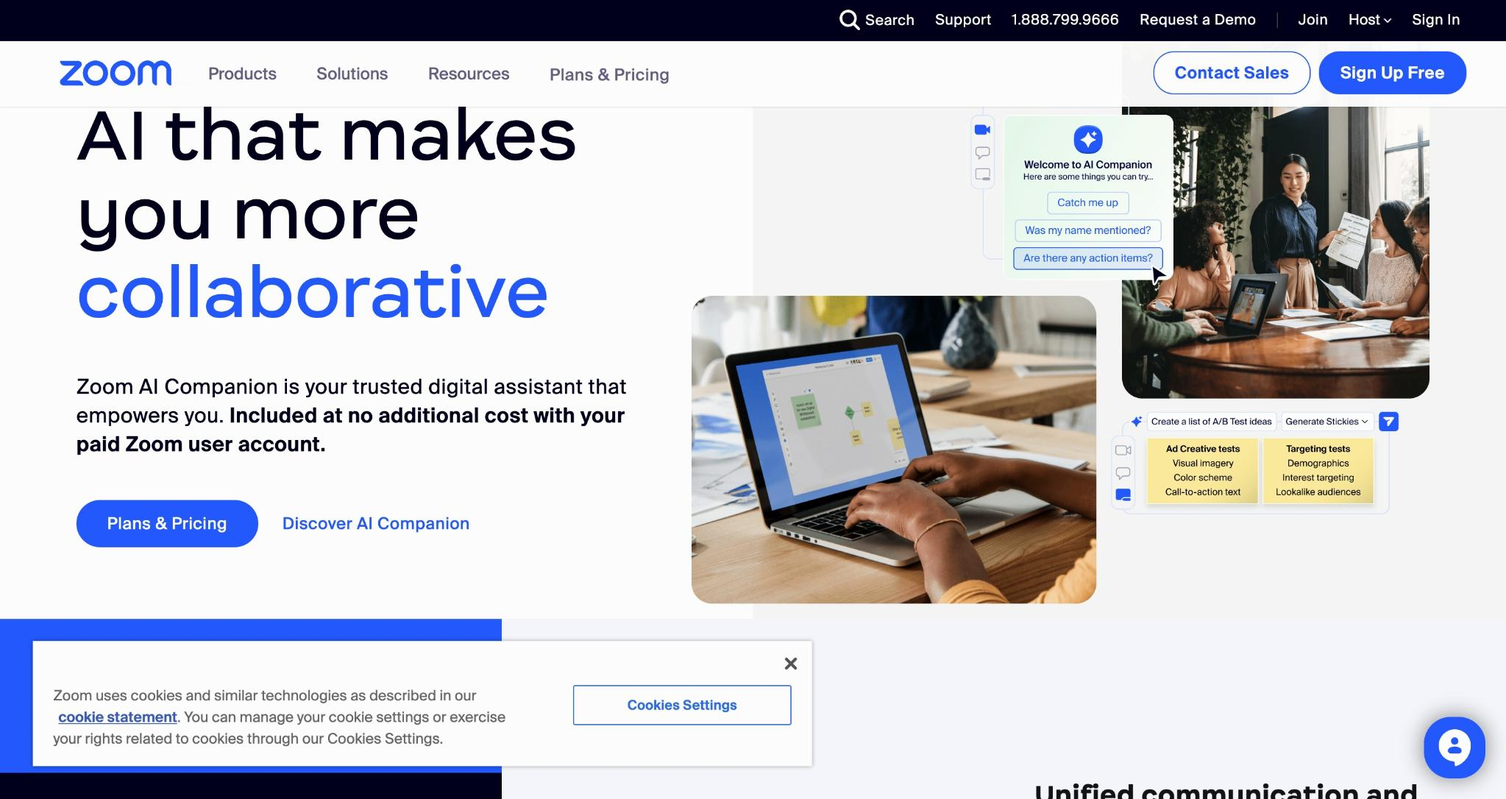webelement: (502, 618, 1505, 799), (77, 95, 650, 330), (32, 640, 811, 765), (35, 40, 1470, 107), (692, 133, 1096, 285), (0, 0, 1505, 40), (77, 371, 650, 457), (192, 40, 684, 107), (52, 685, 526, 749), (1111, 412, 1399, 514), (76, 246, 401, 335), (1111, 514, 1385, 616), (1149, 40, 1470, 97), (153, 668, 440, 721), (283, 499, 500, 546), (572, 684, 790, 724), (77, 499, 257, 546), (1153, 51, 1310, 93), (1319, 51, 1466, 93), (427, 40, 519, 106), (108, 0, 419, 19), (1124, 0, 1261, 40), (316, 40, 397, 106), (996, 0, 1124, 40), (208, 40, 285, 106), (35, 60, 193, 85), (1424, 716, 1485, 777), (919, 0, 995, 40), (839, 0, 913, 40), (1397, 0, 1471, 40), (548, 64, 668, 84), (58, 707, 176, 726), (1140, 10, 1256, 29), (1012, 10, 1119, 29), (1282, 0, 1332, 40), (1349, 0, 1392, 40), (439, 1, 531, 18), (934, 10, 990, 29), (1413, 10, 1461, 29), (1261, 0, 1282, 40), (1349, 10, 1392, 29), (1298, 10, 1327, 29), (839, 9, 859, 29), (1505, 618, 1506, 799), (785, 657, 797, 669), (1384, 17, 1392, 21)
